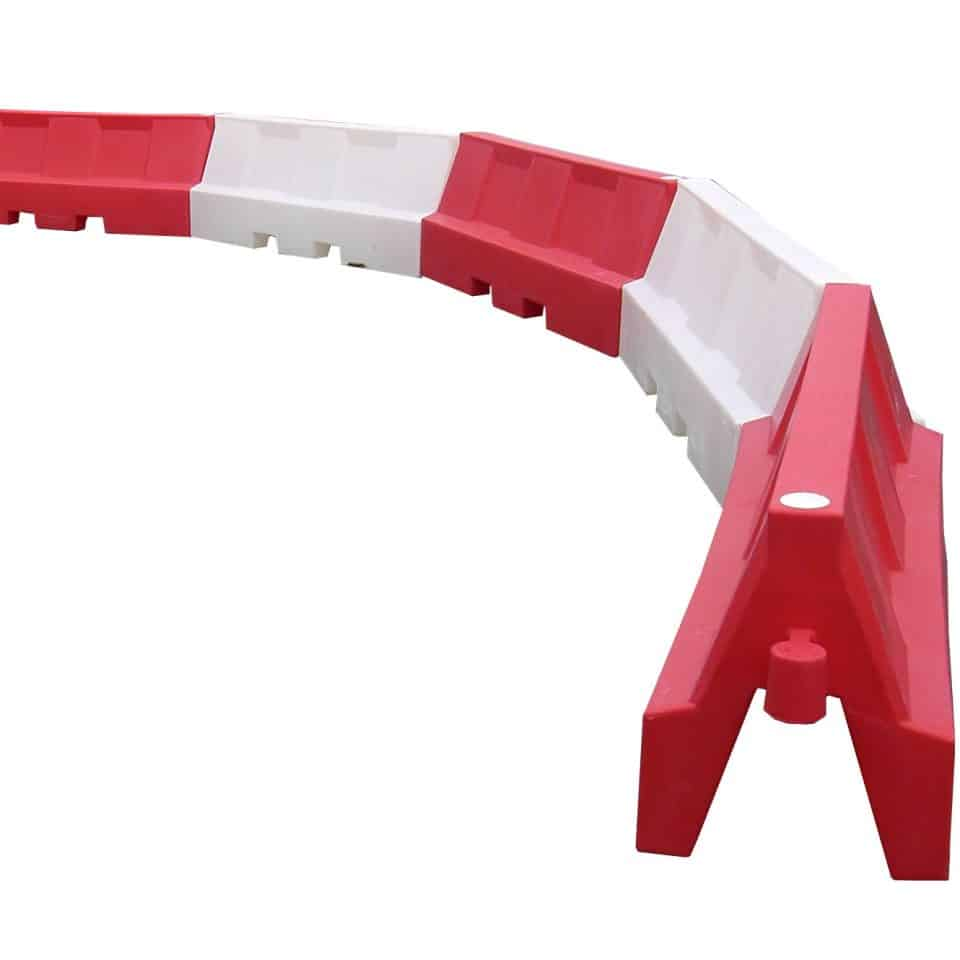Barrier: (23, 75, 953, 880)
